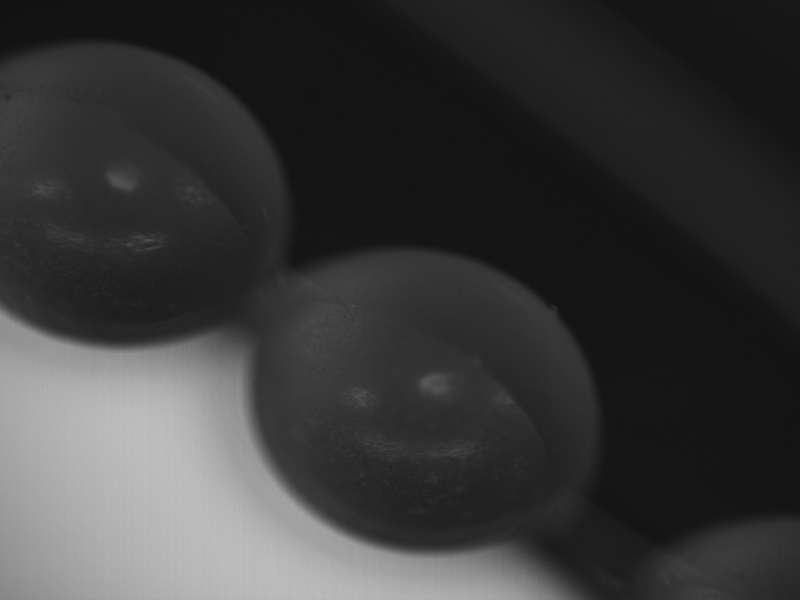bead: (238, 240, 605, 563), (1, 25, 298, 352)
